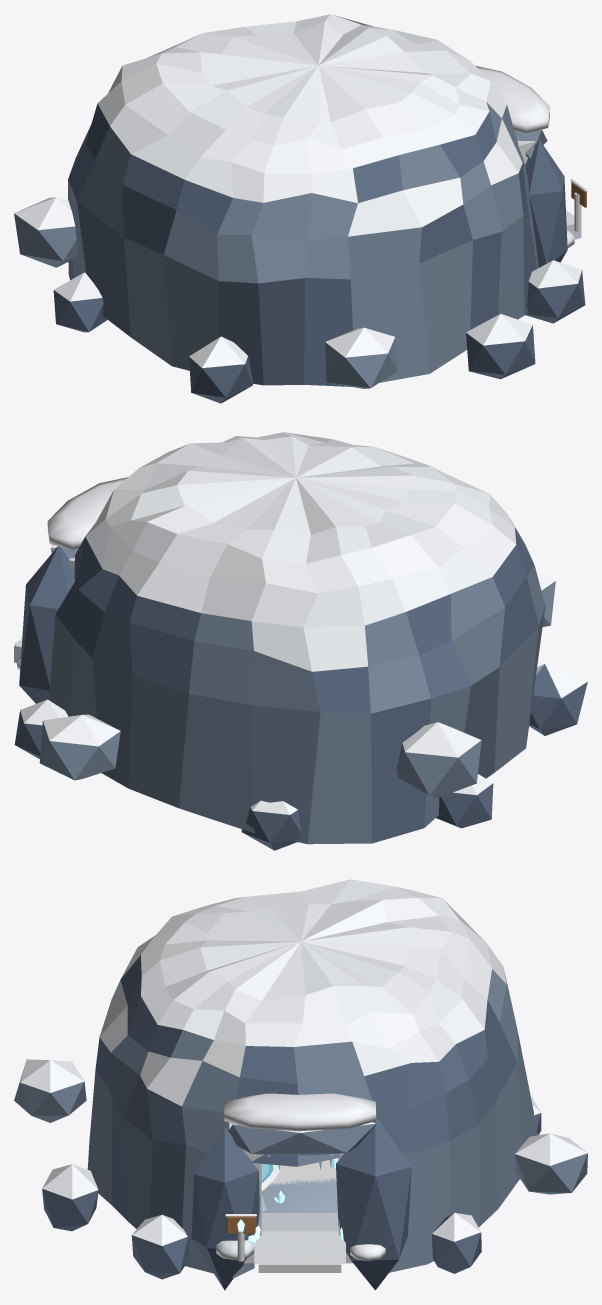
File: pico-caverna.glb
The picture shows the model from 3 angles, top to bottom: view 1: azimuth 30°, elevation 25°; view 2: azimuth 150°, elevation 25°; view 3: azimuth 270°, elevation 25°; orthographic projection. The views are drawn at different scales.
Parts seen in each view (by area): view 1: rocha; view 2: rocha; view 3: rocha, chao, col-rampa-2, col-cil-chao-1.
Boxes of the visible parts, x1,y1,x2,y2 form: rocha: (14, 14, 587, 403); rocha: (14, 432, 587, 850); rocha: (14, 879, 587, 1290); chao: (216, 1163, 385, 1264); col-rampa-2: (258, 1231, 341, 1272); col-cil-chao-1: (269, 1158, 338, 1186).
Bounding box in the file's own units: 18.98 × 9.73 × 19.44.
